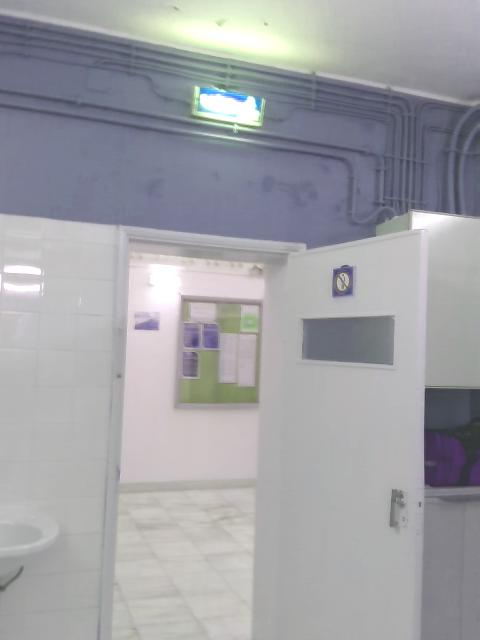open_door: (99, 223, 306, 639)
